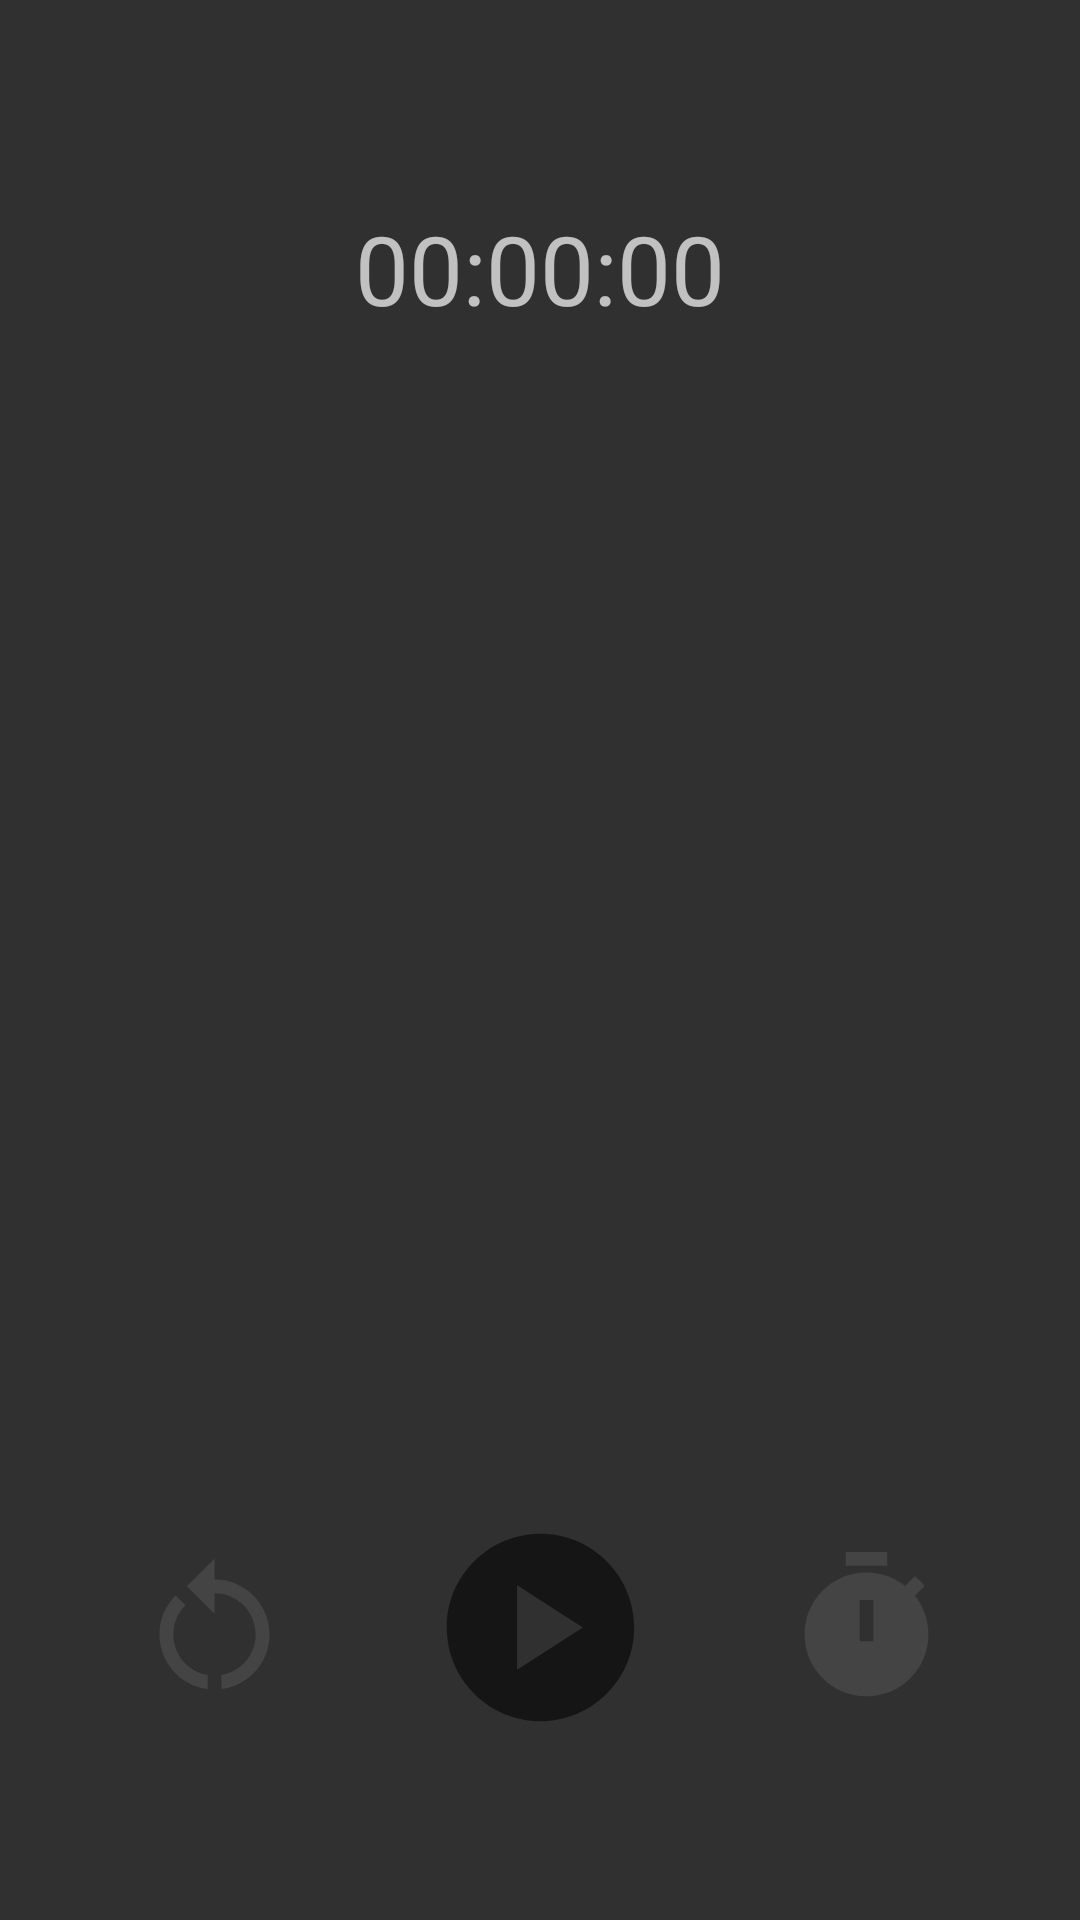

Icons on this 1080x1920 Android screen, each with the point to tap as point (x, y):
play: point (540, 1627)
